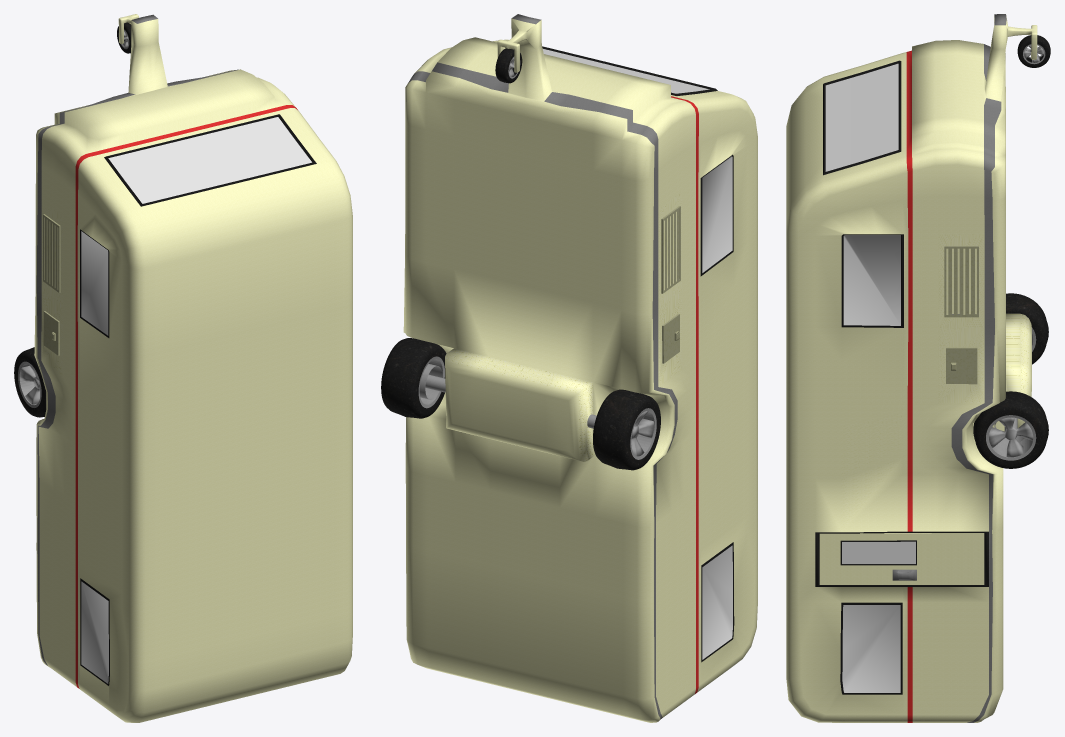
File: caravan.glb
3 renders of one model, left to right at view 1: azimuth 30°, elevation 25°; view 2: azimuth 150°, elevation 25°; view 3: azimuth 270°, elevation 25°, orthographic. The views are drawn at different scales.
Parts seen in each view (by area): view 1: Large Caravan, Rear Wheels; view 2: Large Caravan, Rear Wheels, Front Wheel; view 3: Large Caravan, Door, Rear Wheels, Front Wheel.
Boxes of the visible parts, left/top/right/bottom form: Large Caravan: left=34, top=14, right=352, bottom=722; Rear Wheels: left=14, top=347, right=46, bottom=417; Large Caravan: left=403, top=14, right=757, bottom=722; Rear Wheels: left=381, top=338, right=660, bottom=470; Front Wheel: left=495, top=48, right=522, bottom=83; Large Caravan: left=786, top=14, right=1037, bottom=722; Door: left=819, top=533, right=984, bottom=584; Rear Wheels: left=973, top=293, right=1048, bottom=468; Front Wheel: left=1017, top=35, right=1050, bottom=67.
Size of the model in its own units: 2.92 by 7.46 by 2.75.
10 materials, 9 textured.
